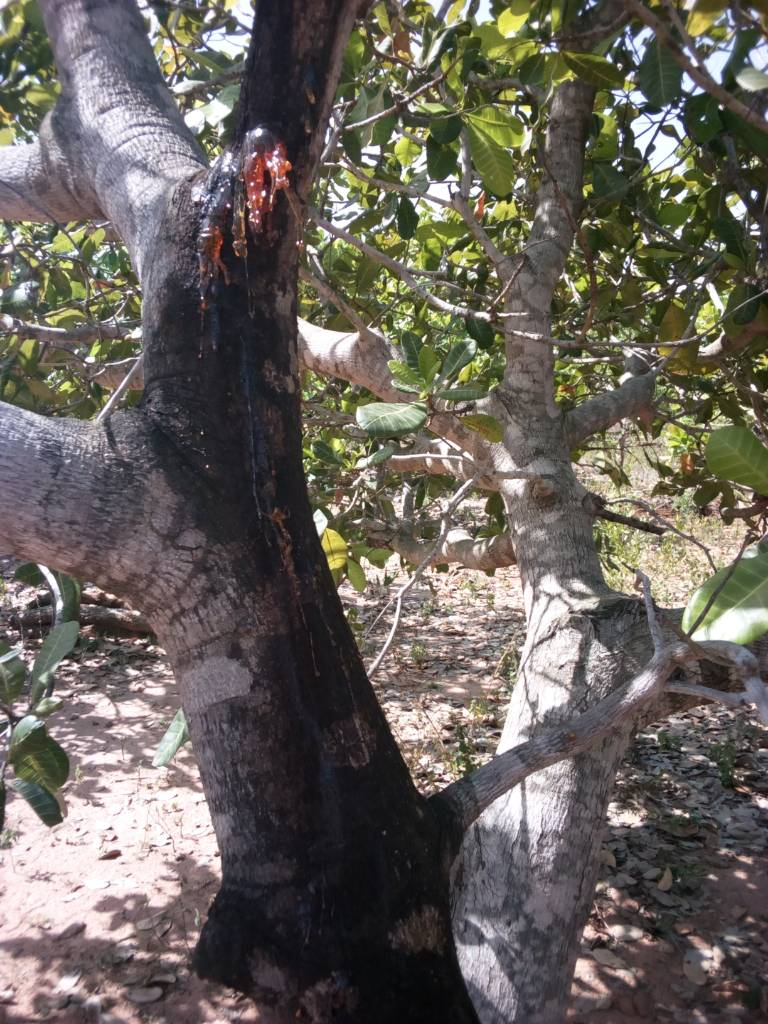Gommose: (190, 127, 402, 996)
